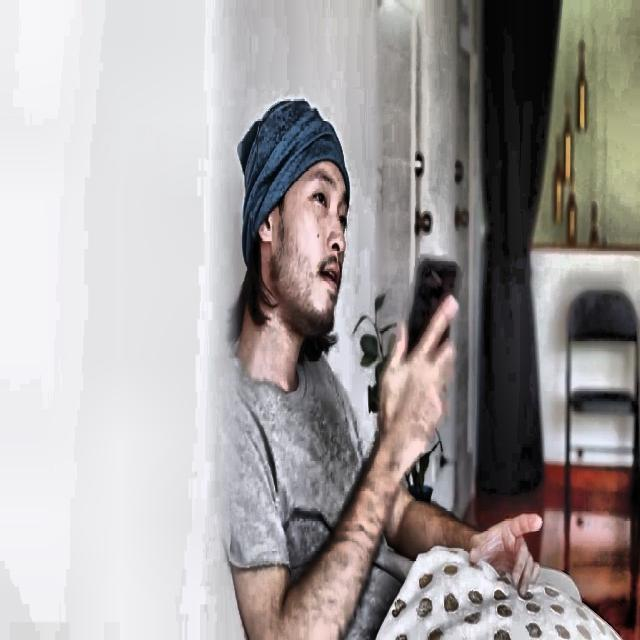Phone: (404, 257, 462, 368)
